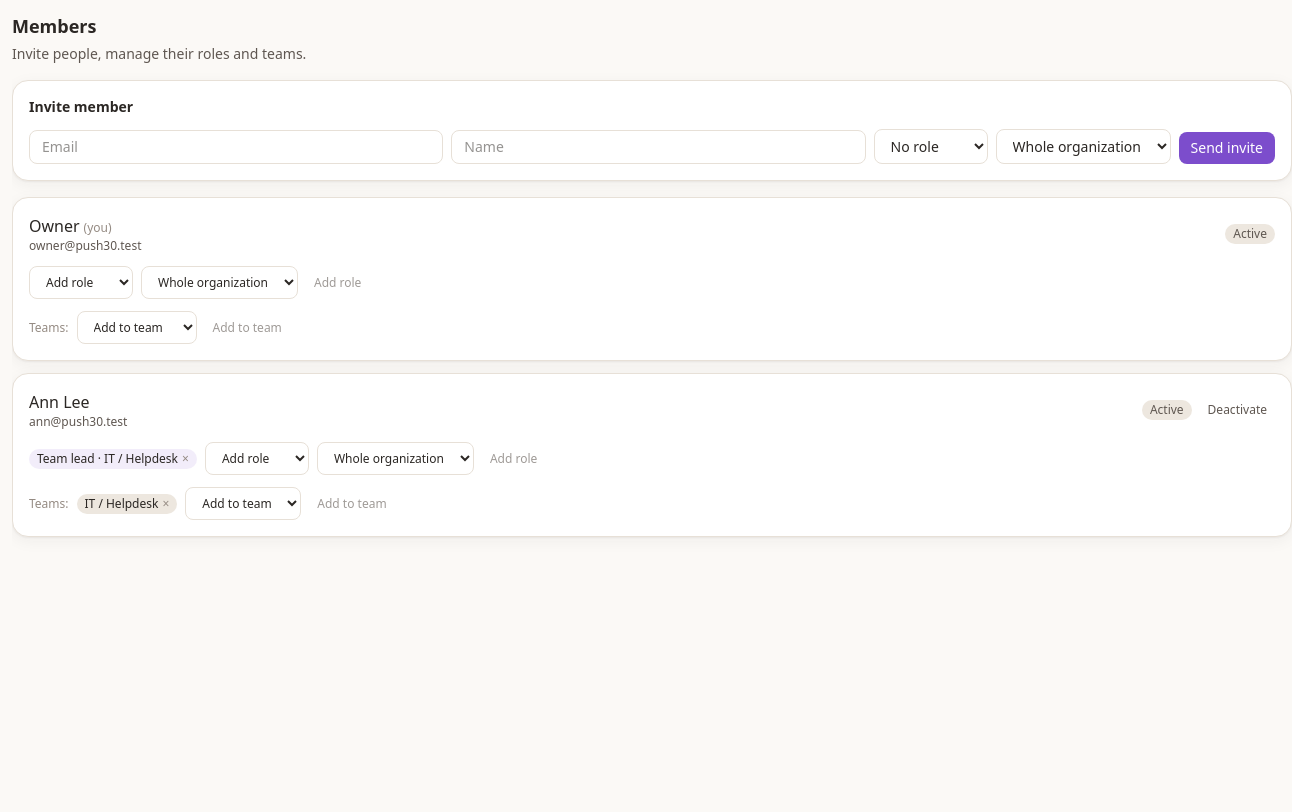
Test: MembersSection › shows the last-owner protection message
Click the button named "Remove role" at (185, 458), box [182, 450, 189, 466]
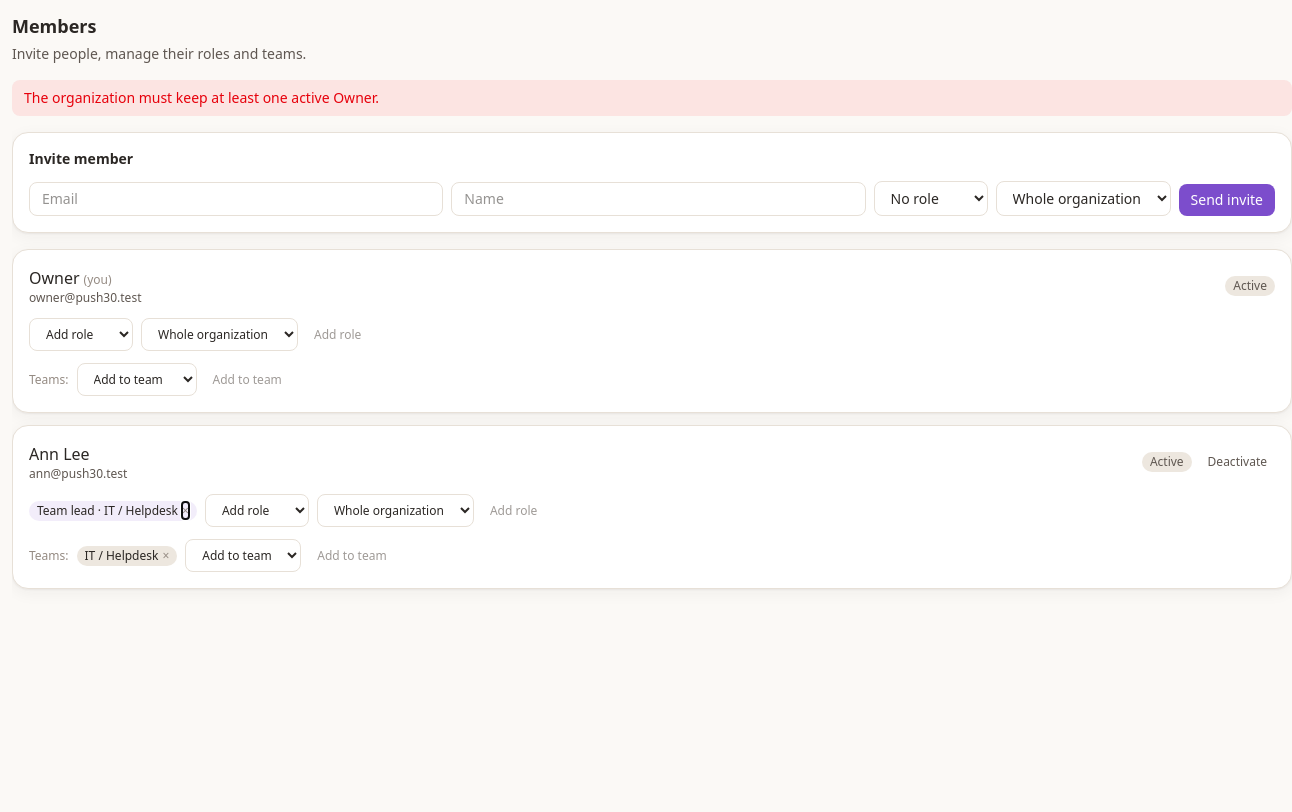
expect the message reads "The organization must keep at least one active Owner.": met, box [24, 88, 379, 107]
